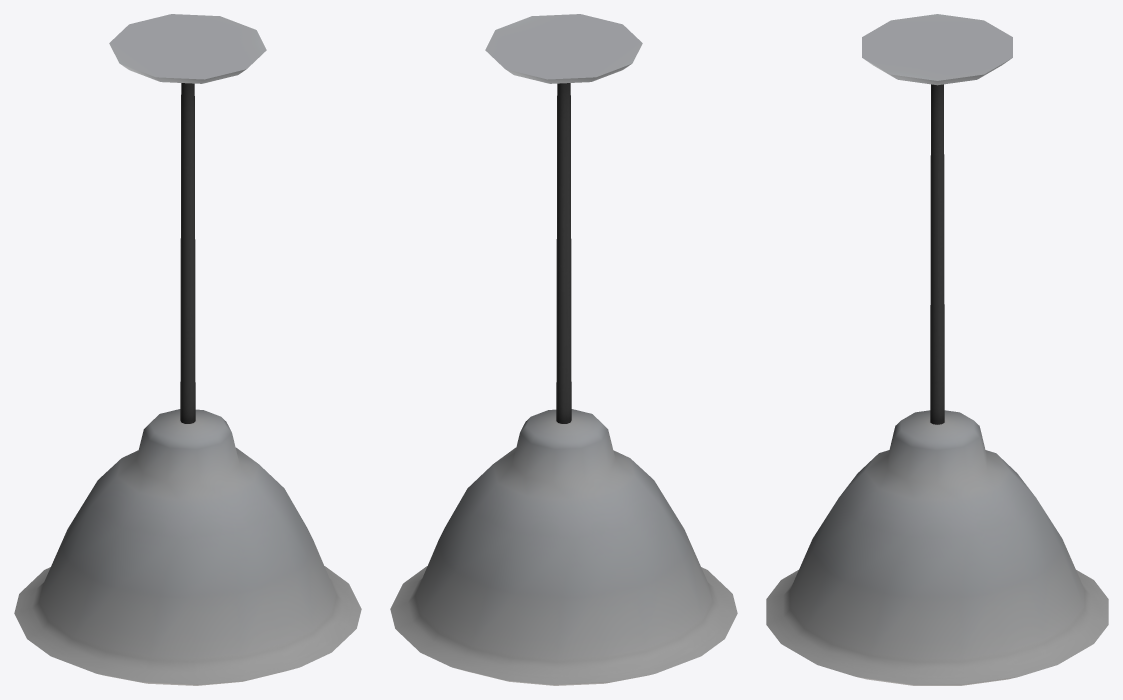
The model's file is CafeLampCeiling03.FBX.
3 views of the same model, side by side, from view 1: azimuth 30°, elevation 25°; view 2: azimuth 150°, elevation 25°; view 3: azimuth 270°, elevation 25° (orthographic).
Parts seen in each view (by area): view 1: CafeLampCeiling03; view 2: CafeLampCeiling03; view 3: CafeLampCeiling03.
Boxes of the visible parts, x1=… form: CafeLampCeiling03: x1=14, y1=14, x2=361, y2=685; CafeLampCeiling03: x1=390, y1=14, x2=737, y2=685; CafeLampCeiling03: x1=766, y1=14, x2=1108, y2=685.
Size of what is drawn, in the model's own units: 0.4533 by 0.8334 by 0.4503.
